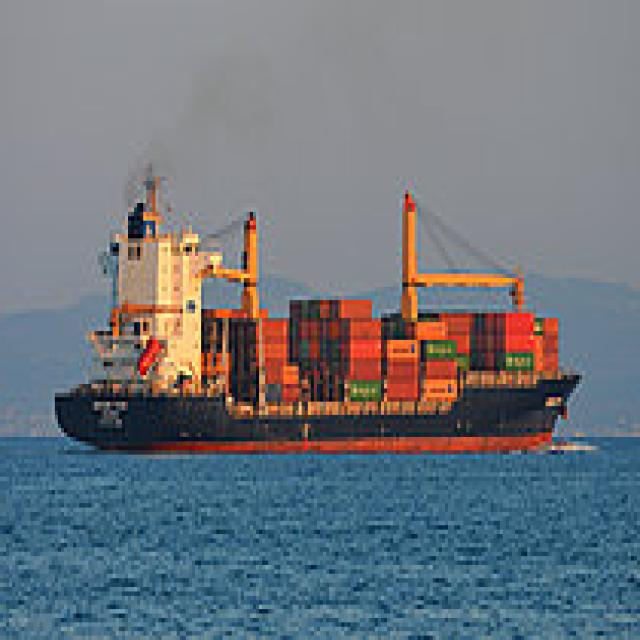Cargo: (58, 155, 585, 450)
